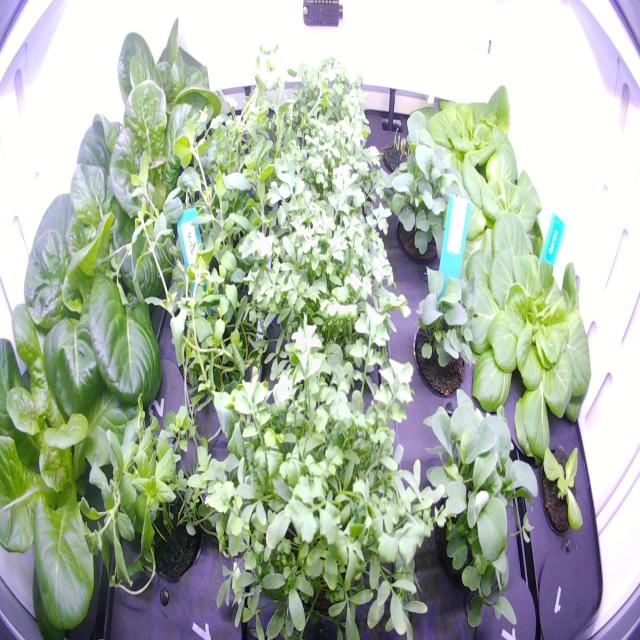Ready: (0, 297, 162, 638), (7, 152, 191, 427), (65, 66, 214, 251), (110, 8, 229, 152)
young: (443, 208, 607, 475), (422, 137, 560, 280), (400, 71, 530, 219), (530, 434, 594, 548)
